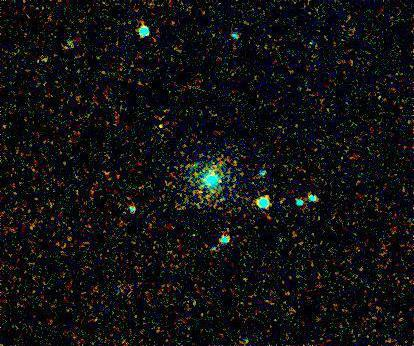star: (147, 112, 177, 142)
